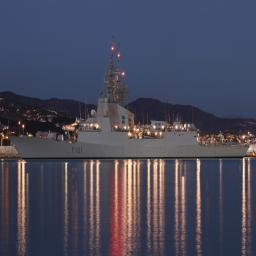Fragata: (7, 34, 251, 162)
